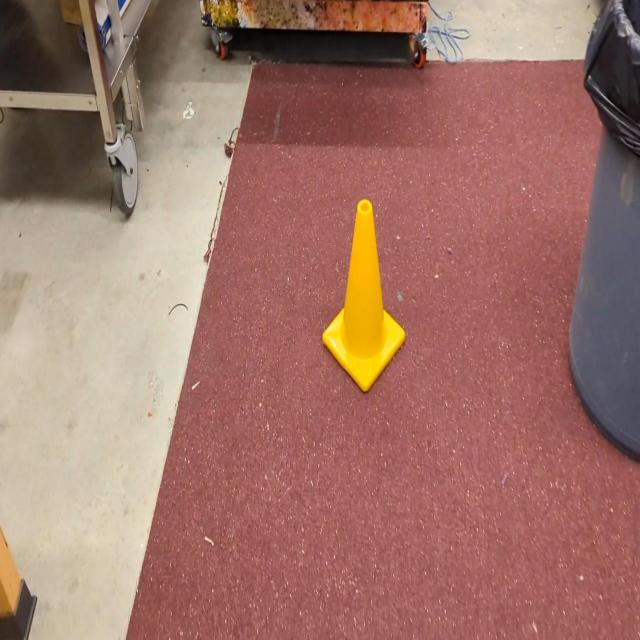frc_cone: (321, 198, 406, 396)
